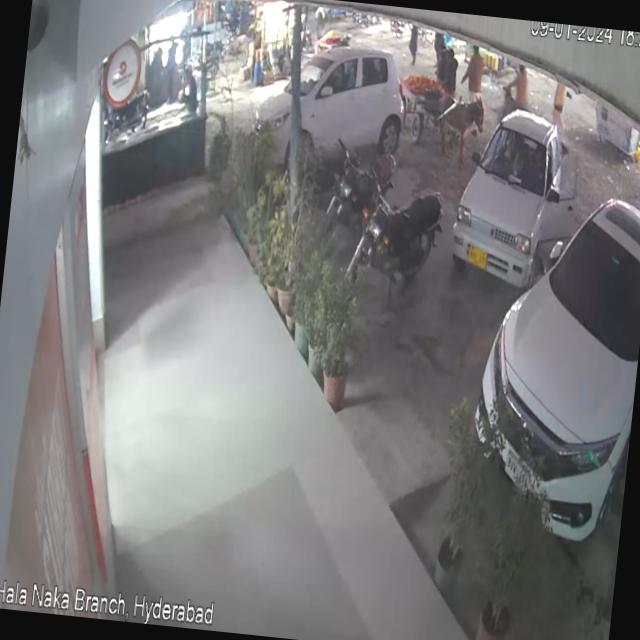Car: (459, 138, 640, 559), (447, 80, 572, 317), (228, 20, 416, 166)
Motorcycle: (334, 176, 451, 294), (324, 137, 404, 240)
